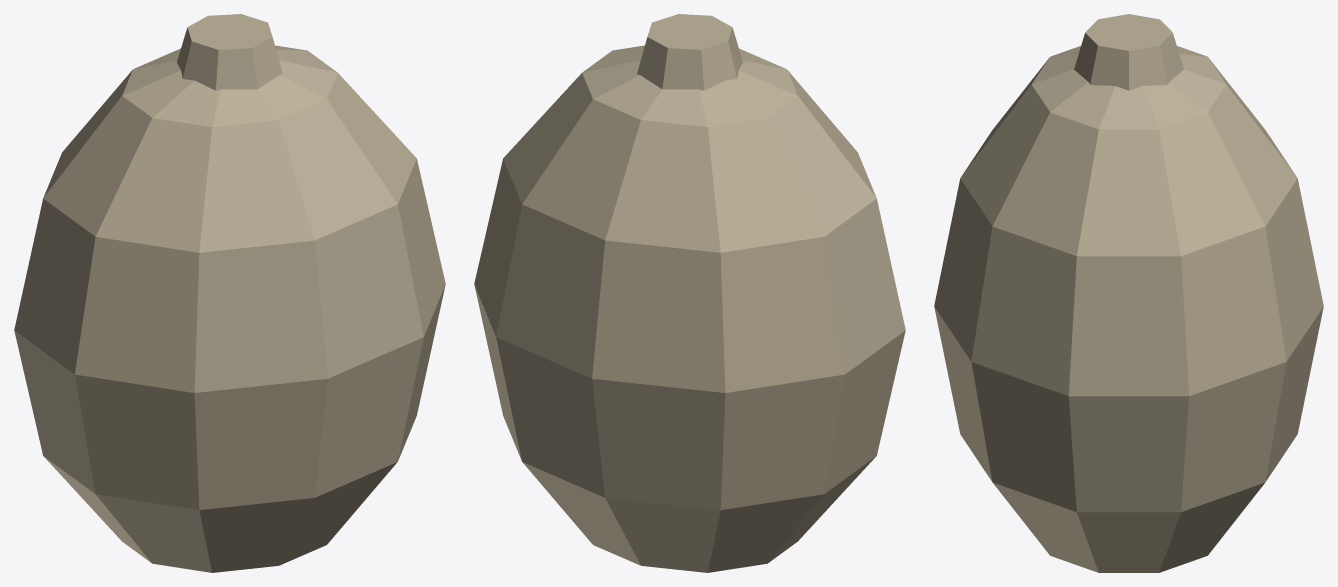
Rendered from sack.glb.
3 views of the same model, side by side, from view 1: azimuth 30°, elevation 25°; view 2: azimuth 150°, elevation 25°; view 3: azimuth 270°, elevation 25° (orthographic).
Parts seen in each view (by area): view 1: sack; view 2: sack; view 3: sack.
Boxes of the visible parts, left/top/right/bottom form: sack: left=14, top=14, right=445, bottom=572; sack: left=474, top=14, right=905, bottom=572; sack: left=934, top=14, right=1323, bottom=572.
Size of the model in its own units: 0.4375 by 0.6 by 0.4.
